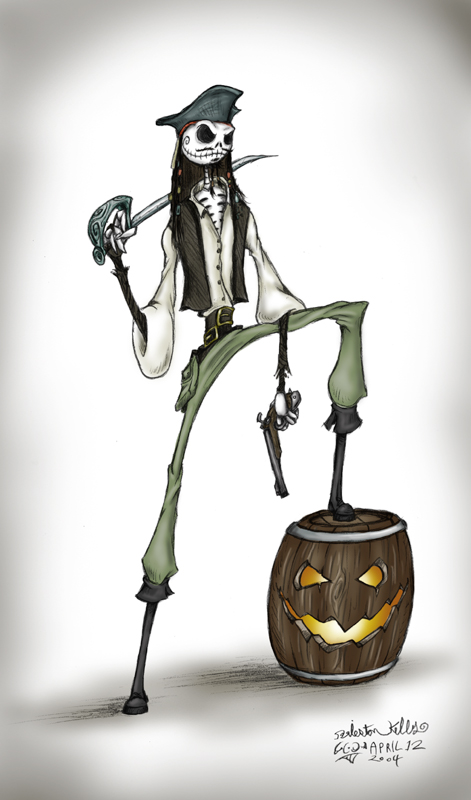Jack Skellington: (87, 84, 372, 717)
